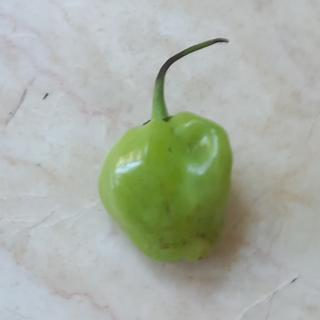Grade-B: (92, 108, 231, 264)
